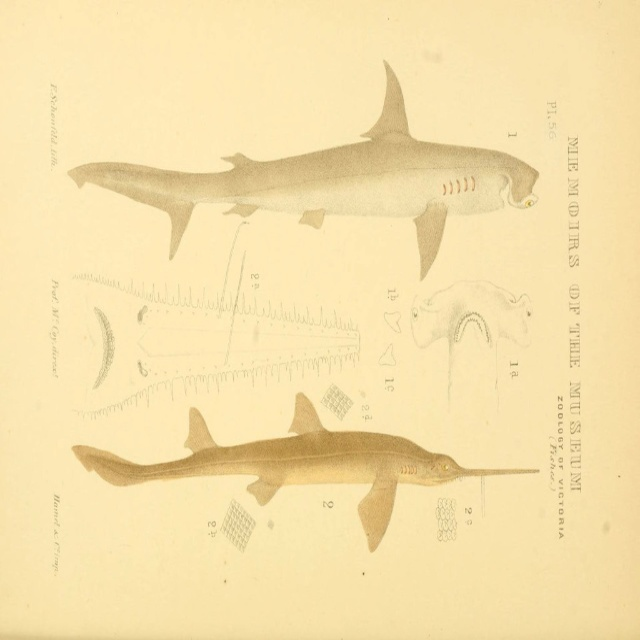Shark: (68, 53, 539, 282)
